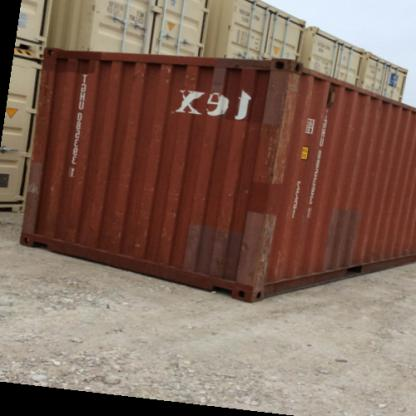Damage: (267, 64, 306, 137), (245, 210, 279, 291), (256, 125, 290, 183), (131, 219, 151, 256), (207, 207, 237, 230), (182, 59, 204, 89), (156, 224, 178, 246), (161, 60, 177, 90), (129, 58, 147, 84), (164, 190, 182, 210)
